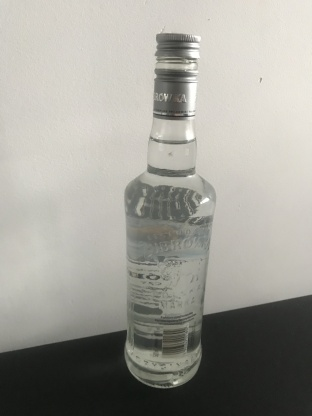nakretka: (151, 31, 202, 120)
